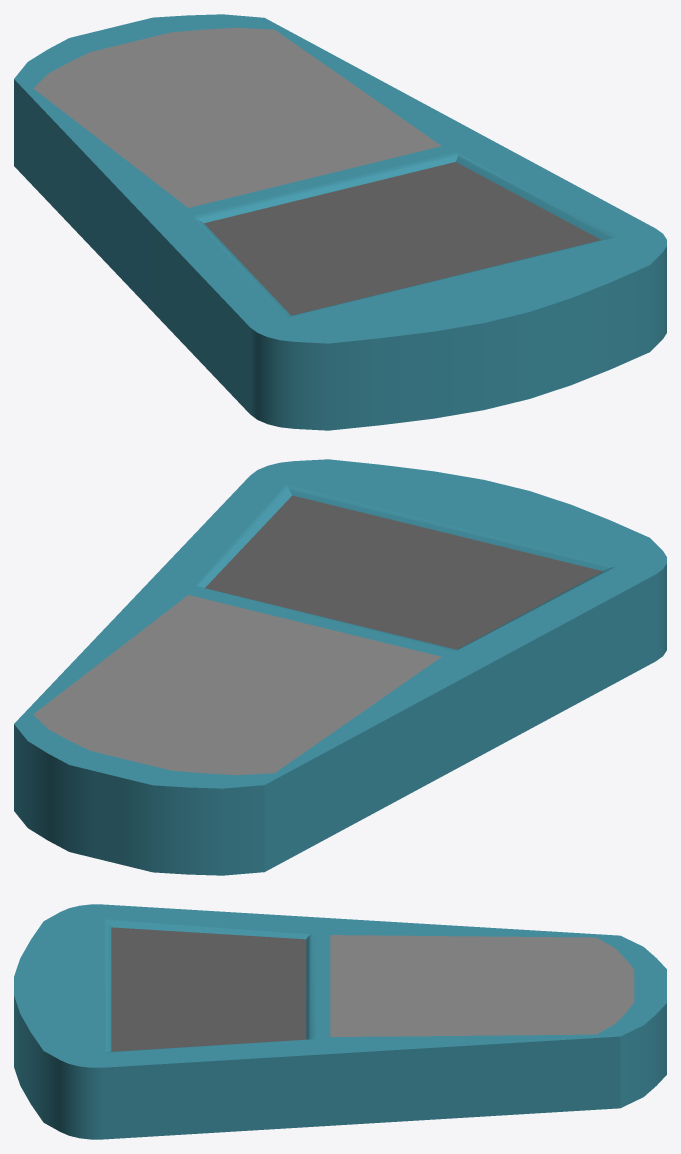
The model's file is PDA.fbx.
3 renders of one model, top to bottom at view 1: azimuth 30°, elevation 25°; view 2: azimuth 150°, elevation 25°; view 3: azimuth 270°, elevation 25°, orthographic. The views are drawn at different scales.
Visible parts, largest first — view 1: pCube1; view 2: pCube1; view 3: pCube1.
Boxes of the visible parts, bbox=[...] form: pCube1: bbox=[14, 14, 666, 430]; pCube1: bbox=[14, 459, 666, 875]; pCube1: bbox=[14, 904, 666, 1139].
Bounding box in the file's own units: 1.55 × 0.3176 × 2.62.
